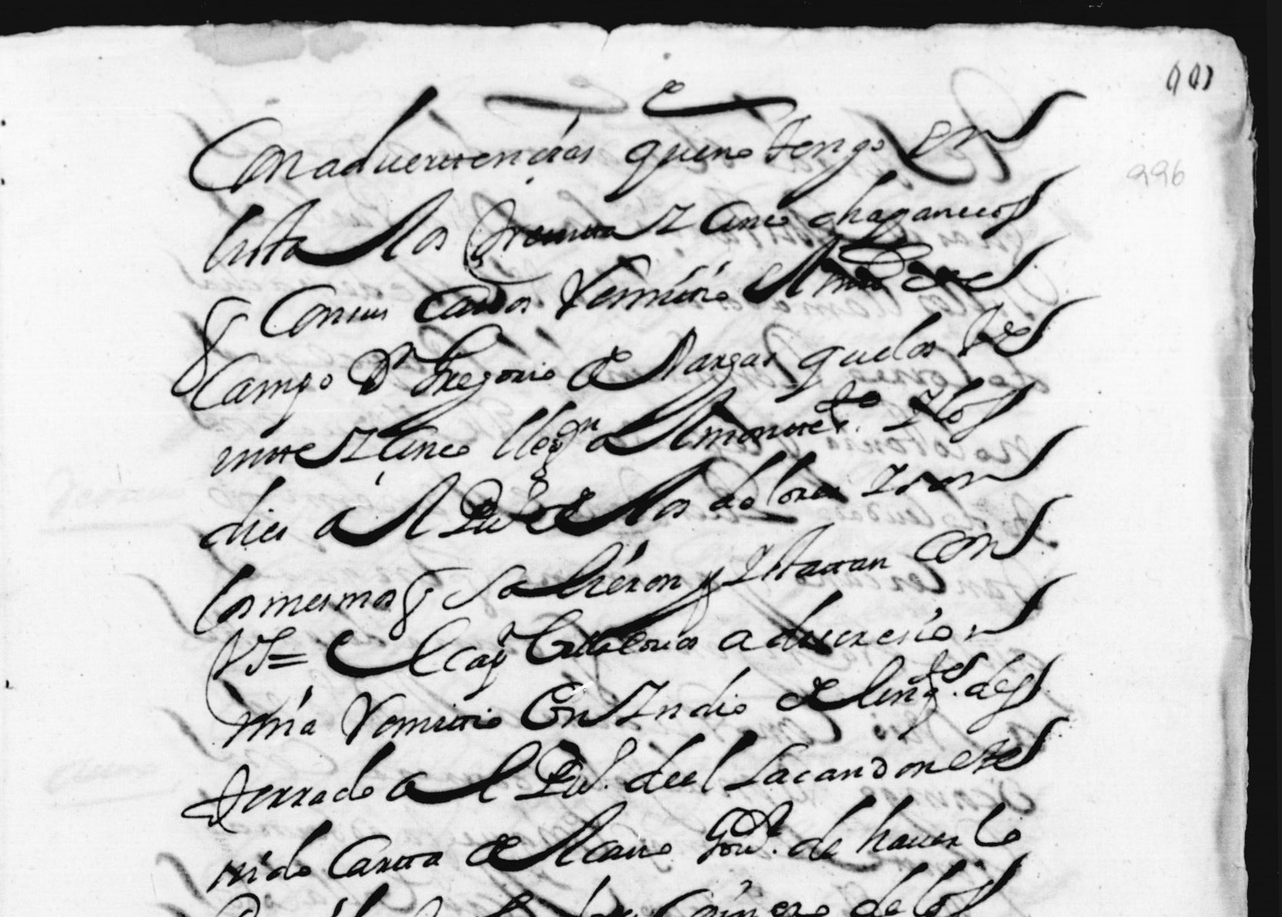lacandon: (723, 716, 1069, 791)
